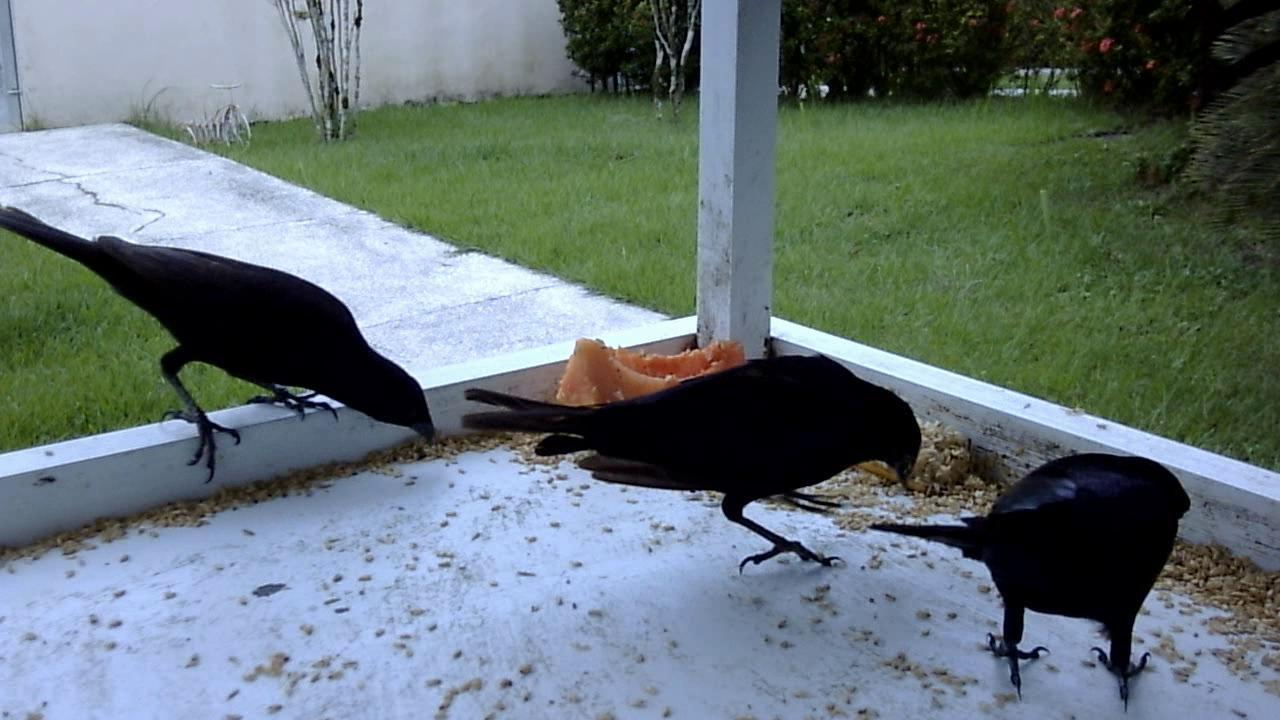chupim: (12, 196, 438, 494), (446, 345, 937, 586), (859, 433, 1201, 704)
